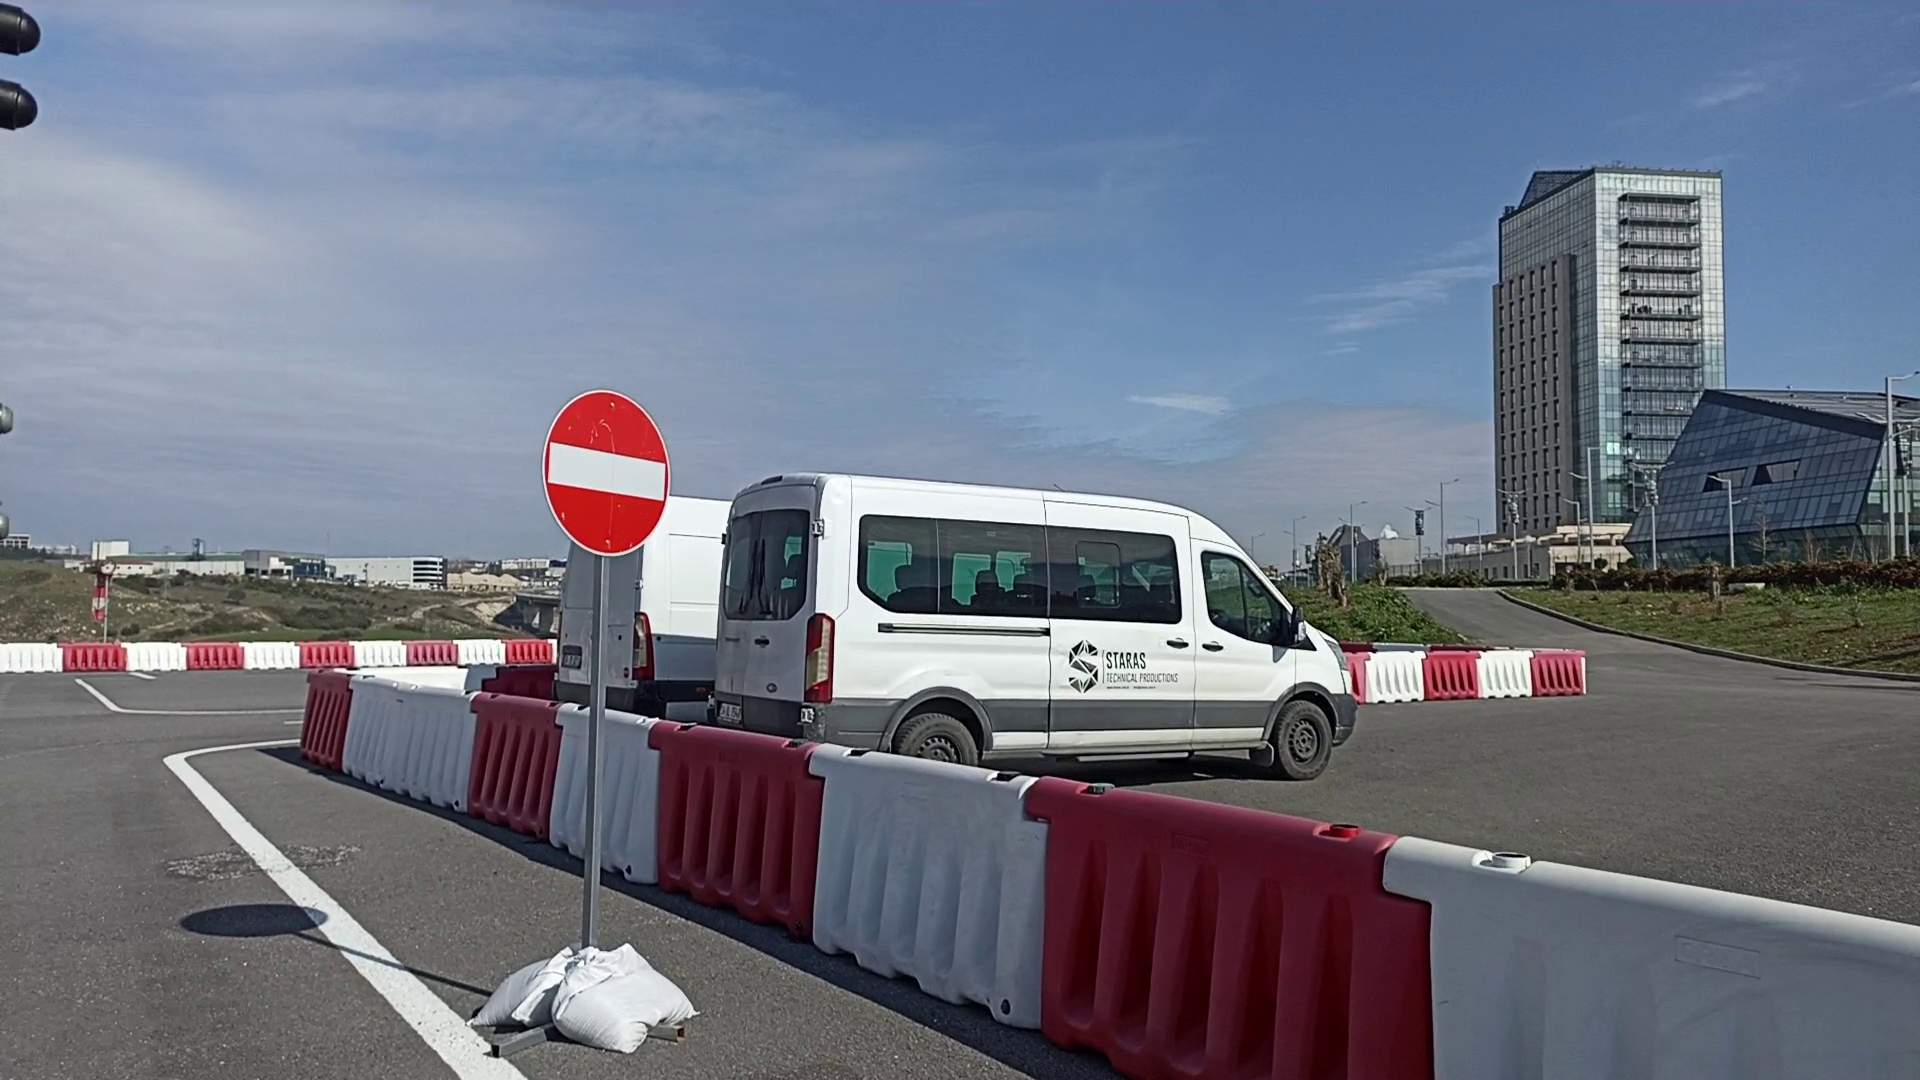noentryway: (541, 386, 675, 559)
